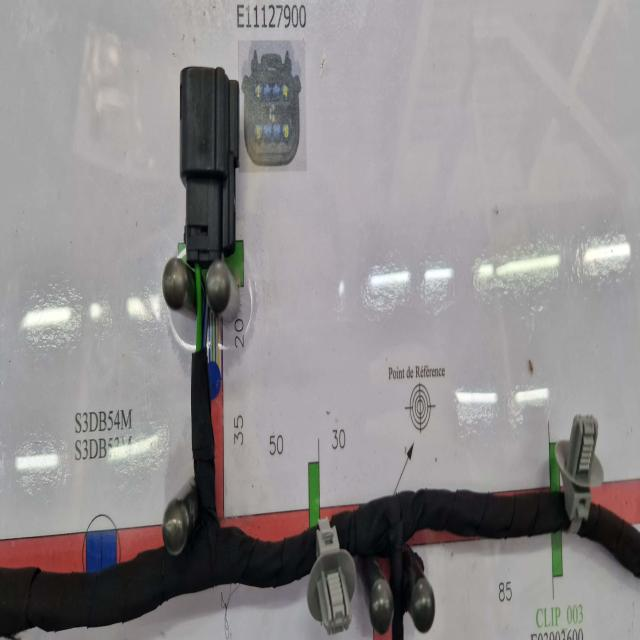Connector: (180, 68, 240, 264), (556, 412, 604, 527), (308, 523, 355, 637)
Gape: (189, 262, 214, 364)
MHEV_N11_Cable: (9, 358, 314, 640), (333, 490, 567, 639), (562, 502, 640, 579)
